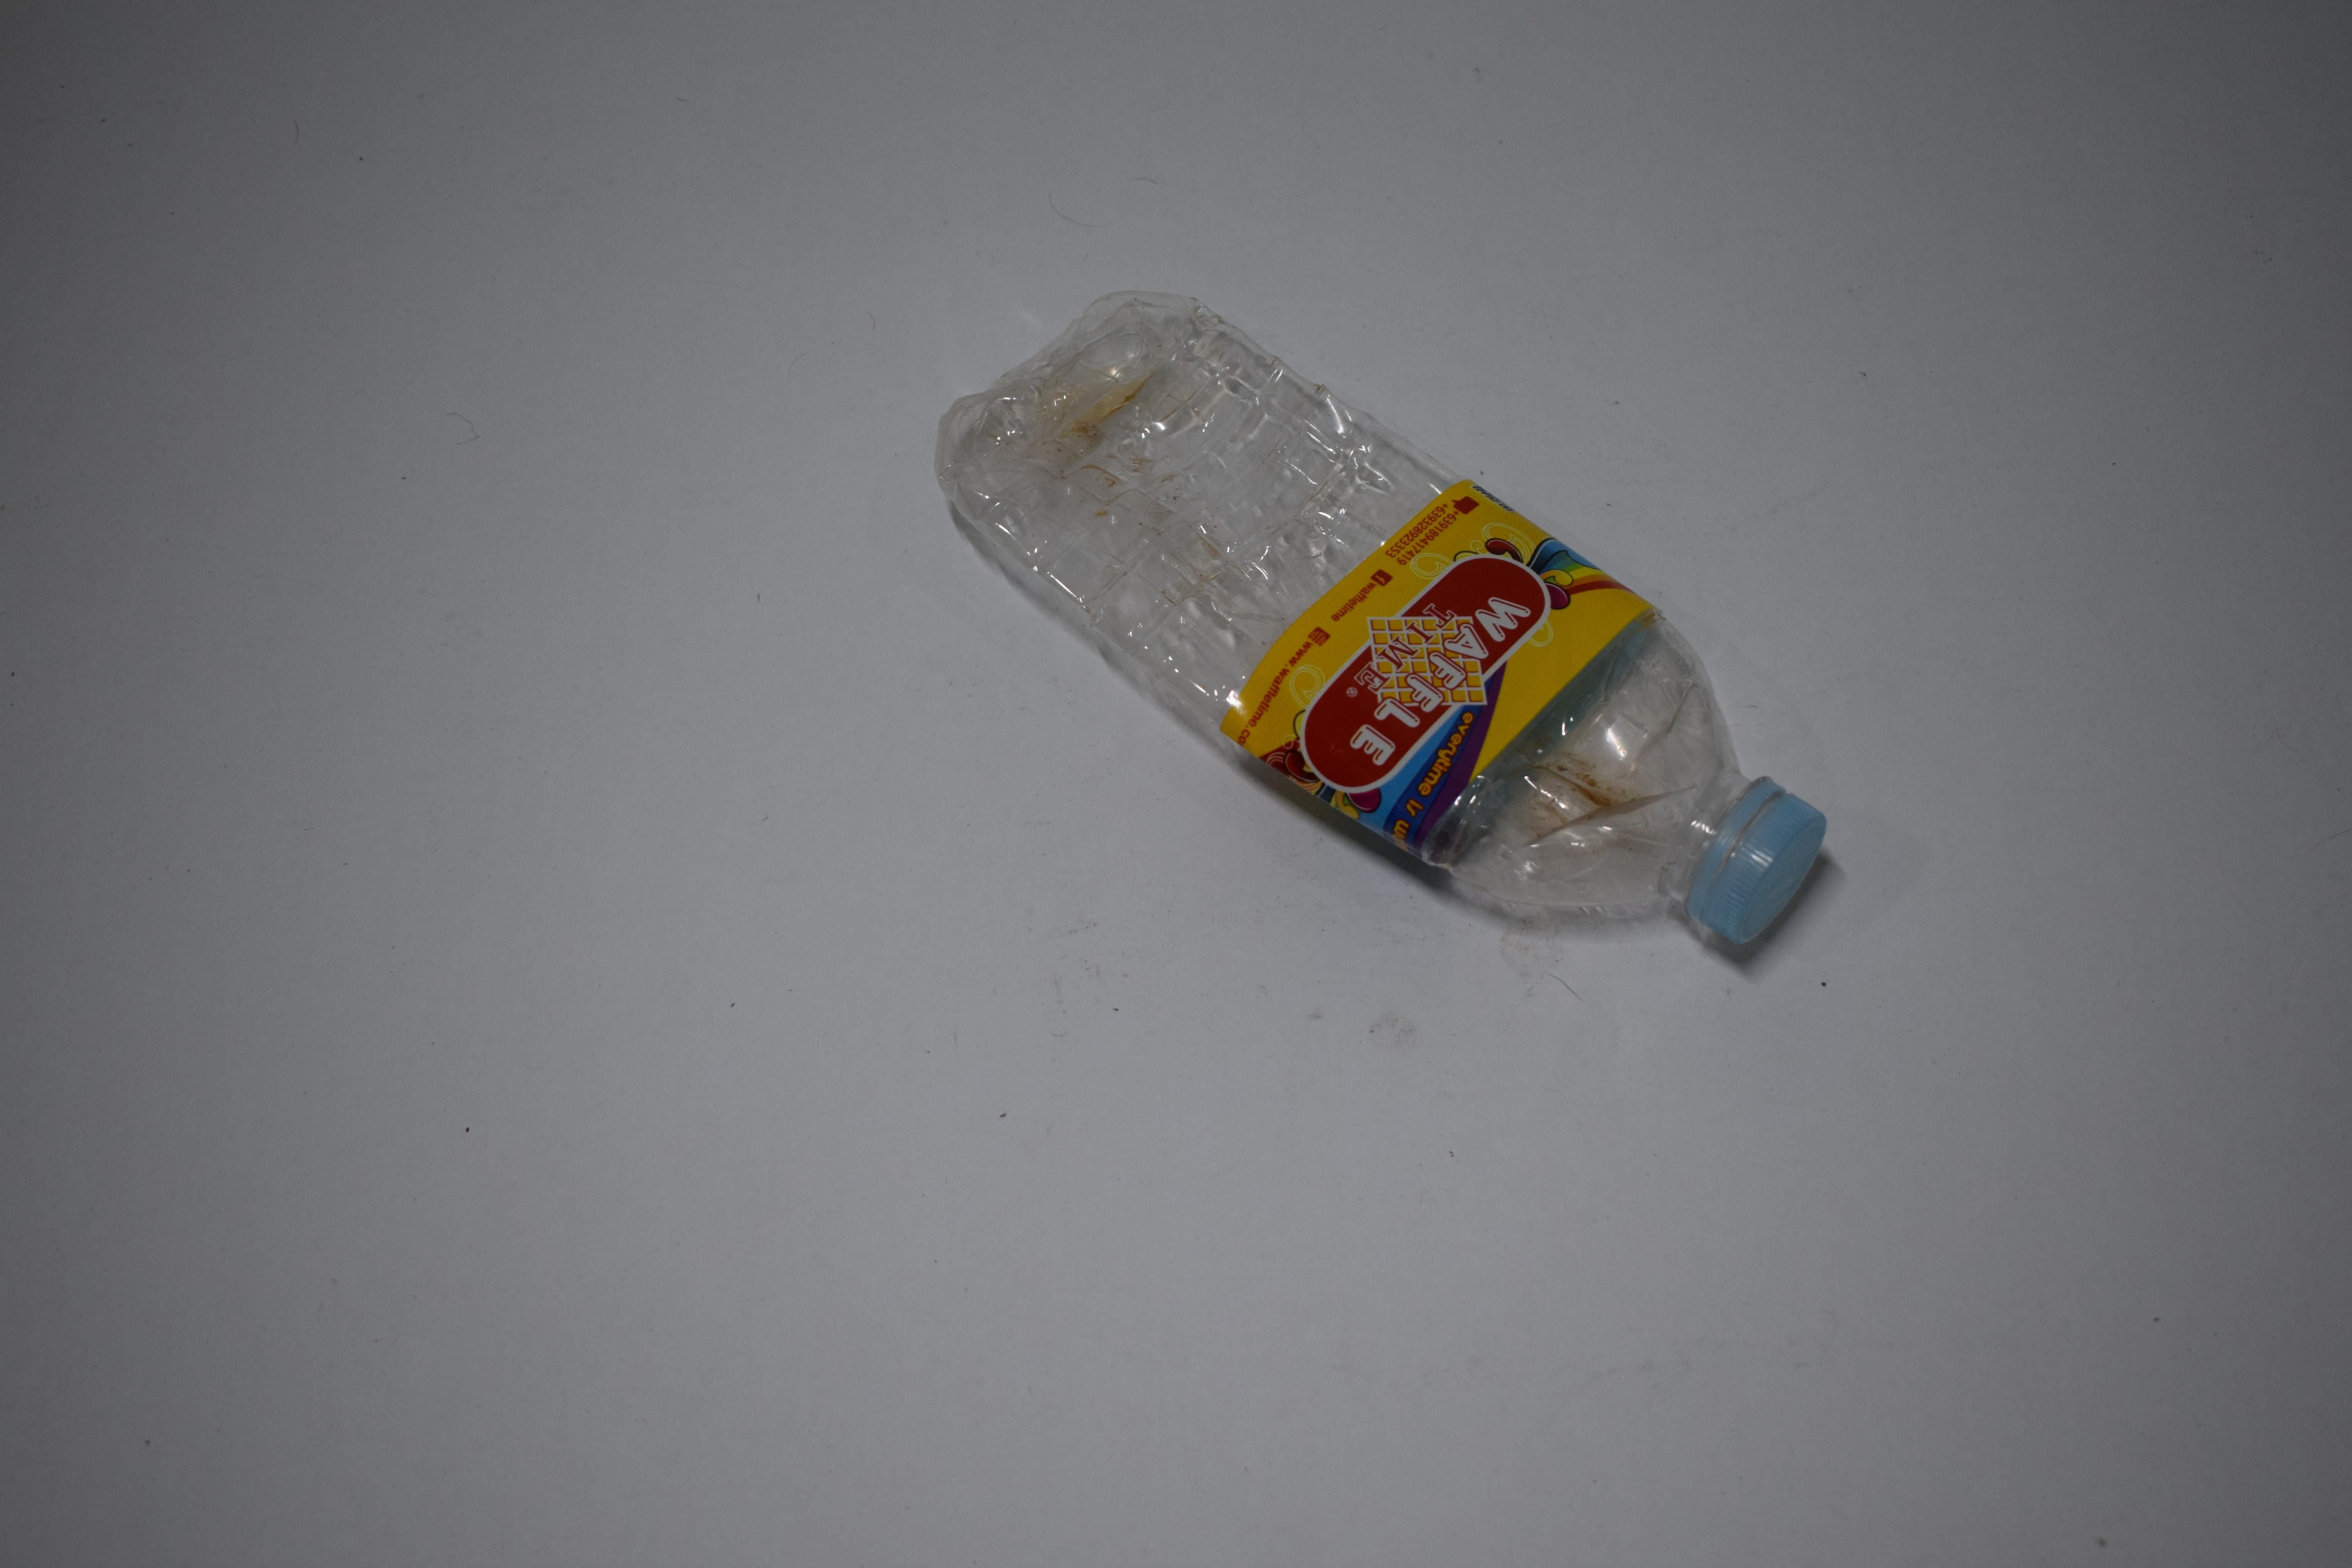bottle: (0, 269, 651, 959)
